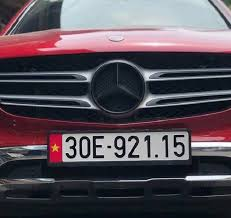number-plate: (63, 135, 189, 159)
